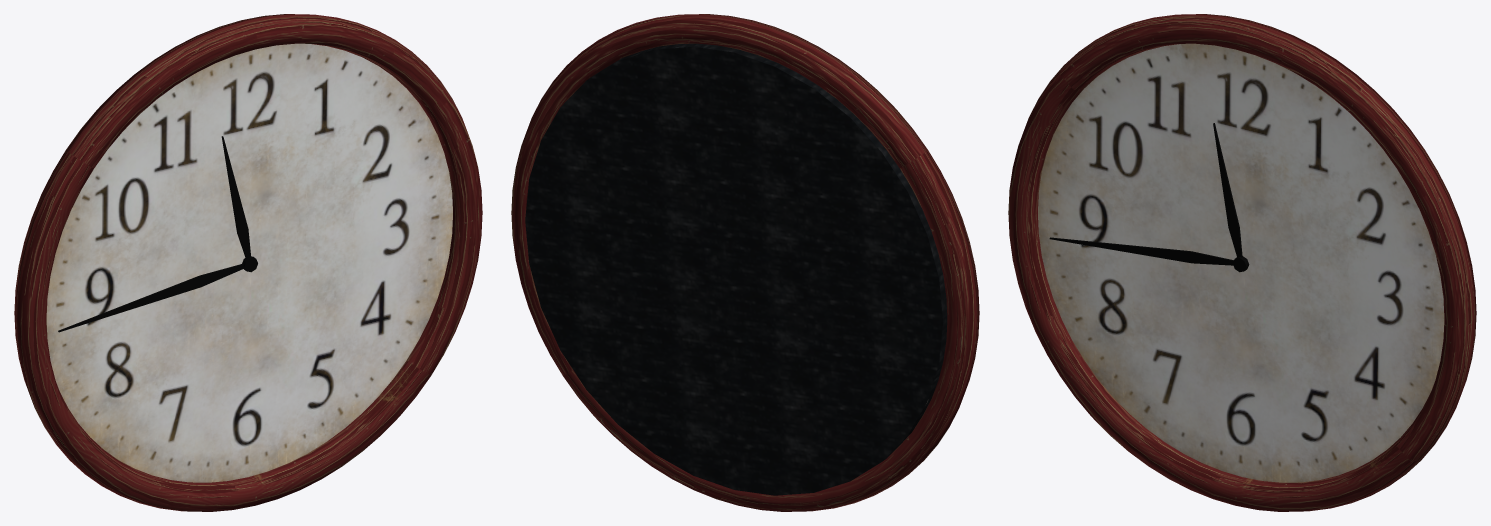
File: clock_1144.fbx
3 renders of one model, left to right at view 1: azimuth 30°, elevation 25°; view 2: azimuth 150°, elevation 25°; view 3: azimuth 330°, elevation 25°, orthographic.
Visible parts, largest first — view 1: clock, minute_hand, hour_hand; view 2: clock; view 3: clock, minute_hand, hour_hand.
Boxes of the visible parts, x1=… form: clock: x1=14, y1=14, x2=482, y2=511; minute_hand: x1=58, y1=263, x2=244, y2=332; hour_hand: x1=221, y1=136, x2=251, y2=259; clock: x1=511, y1=14, x2=979, y2=511; clock: x1=1008, y1=14, x2=1476, y2=511; minute_hand: x1=1049, y1=237, x2=1233, y2=265; hour_hand: x1=1213, y1=123, x2=1242, y2=257.
Size of the model in its own units: 0.4471 by 0.0308 by 0.4471.
Materials: 1 (1 with a texture image).
